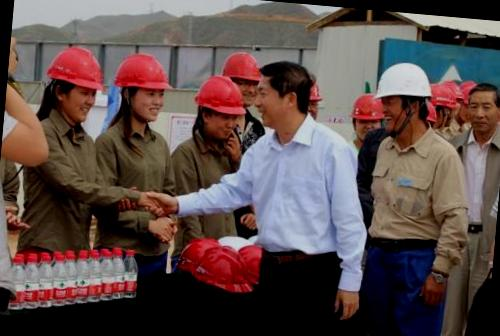no_helmet: (251, 58, 317, 140), (465, 81, 500, 137)
